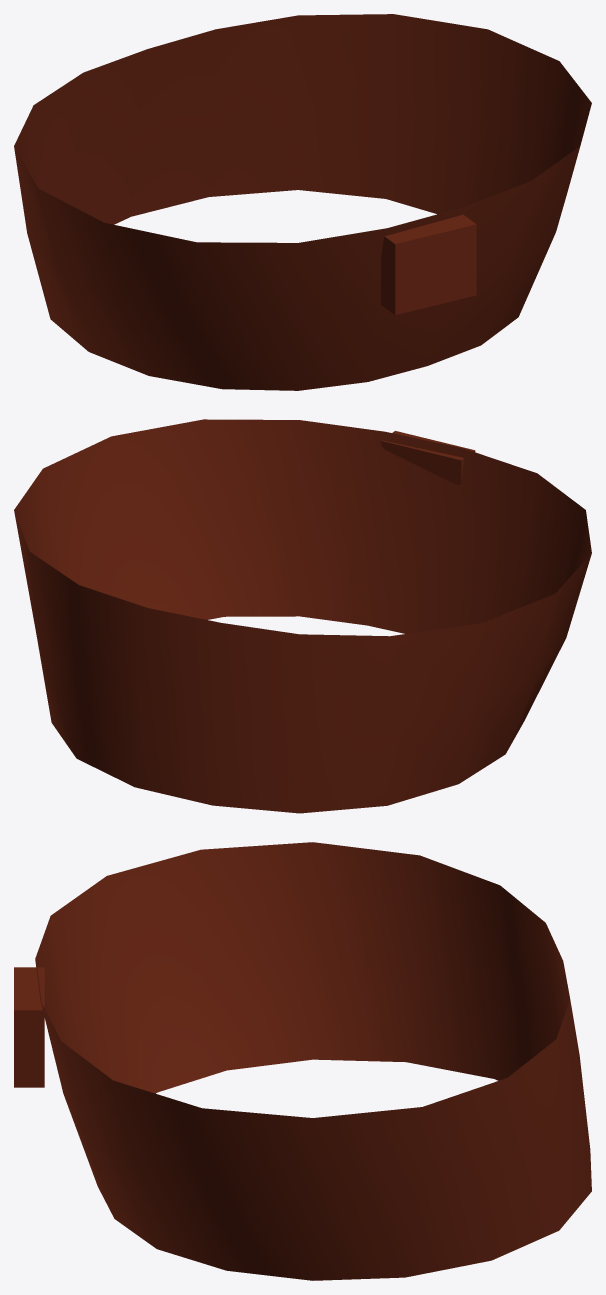
The model's file is meteor_armor_belt.glb.
3 views of the same model, one above another, from view 1: azimuth 30°, elevation 25°; view 2: azimuth 150°, elevation 25°; view 3: azimuth 270°, elevation 25° (orthographic). The views are drawn at different scales.
Visible parts, largest first — view 1: meteor_armor_belt; view 2: meteor_armor_belt; view 3: meteor_armor_belt.
Part boxes in pixels (x1,y1,x2,y2): meteor_armor_belt: (14,14,591,390); meteor_armor_belt: (14,419,591,813); meteor_armor_belt: (14,842,591,1280).
Bounding box in the file's own units: 0.3841 × 0.1238 × 0.34.
